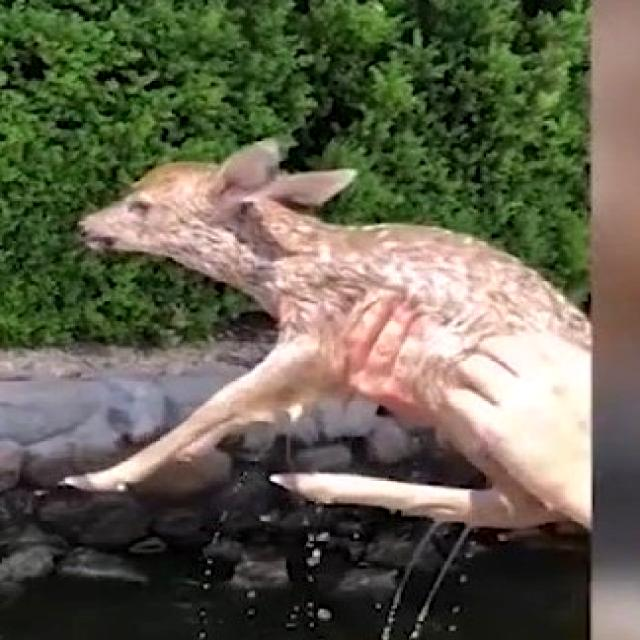deer: (62, 122, 349, 265)
